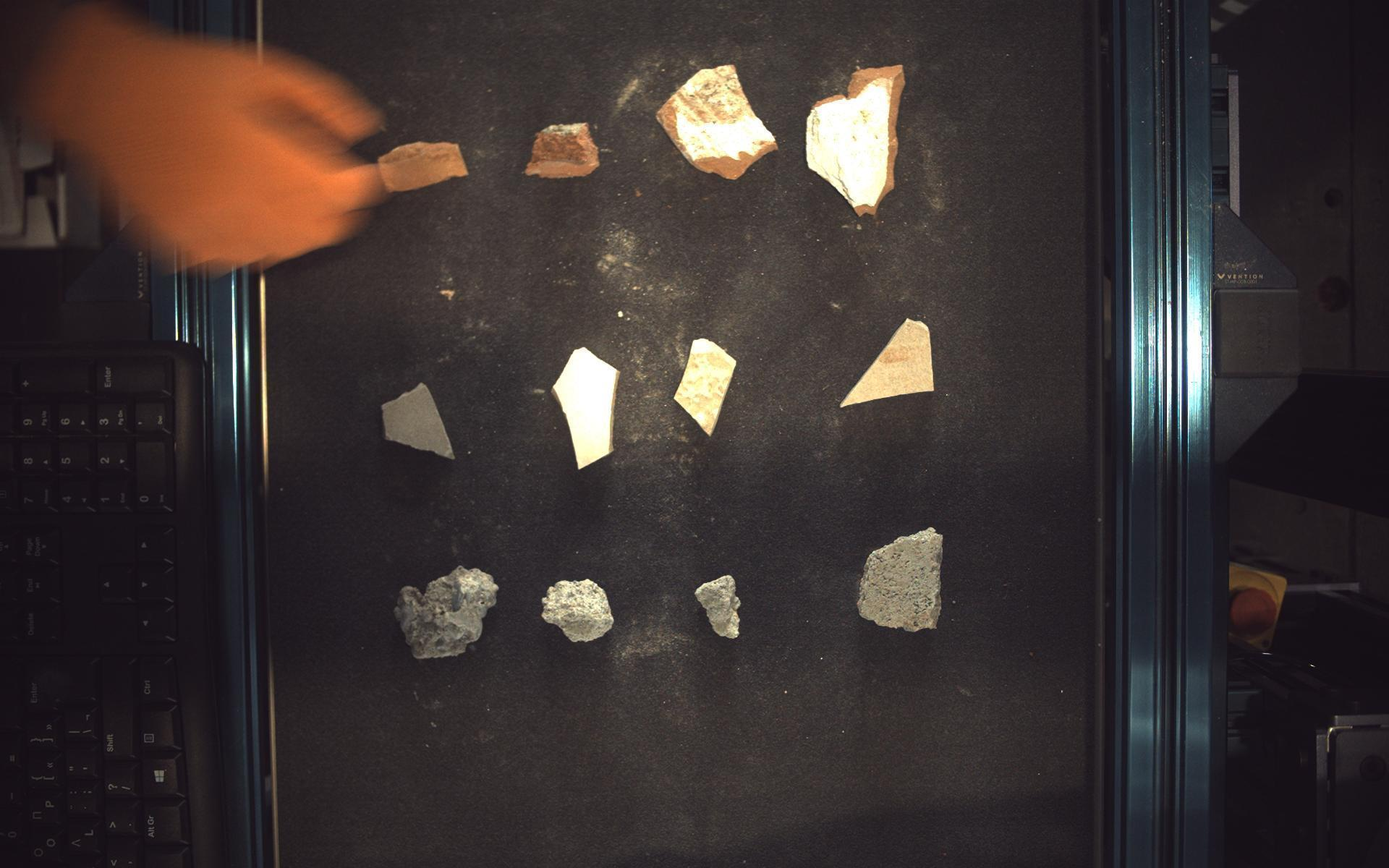brick: (807, 63, 906, 215), (657, 63, 779, 179), (378, 140, 468, 191), (526, 122, 600, 177)
concrete: (394, 567, 498, 660), (859, 528, 945, 633), (543, 579, 614, 642), (696, 576, 742, 639)
tile: (842, 318, 936, 407), (553, 347, 620, 469), (675, 338, 737, 435), (382, 383, 454, 460)
